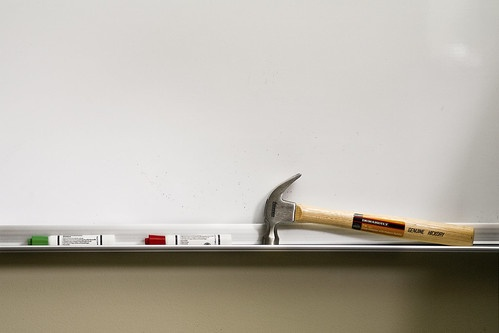hammer: (258, 173, 474, 247)
